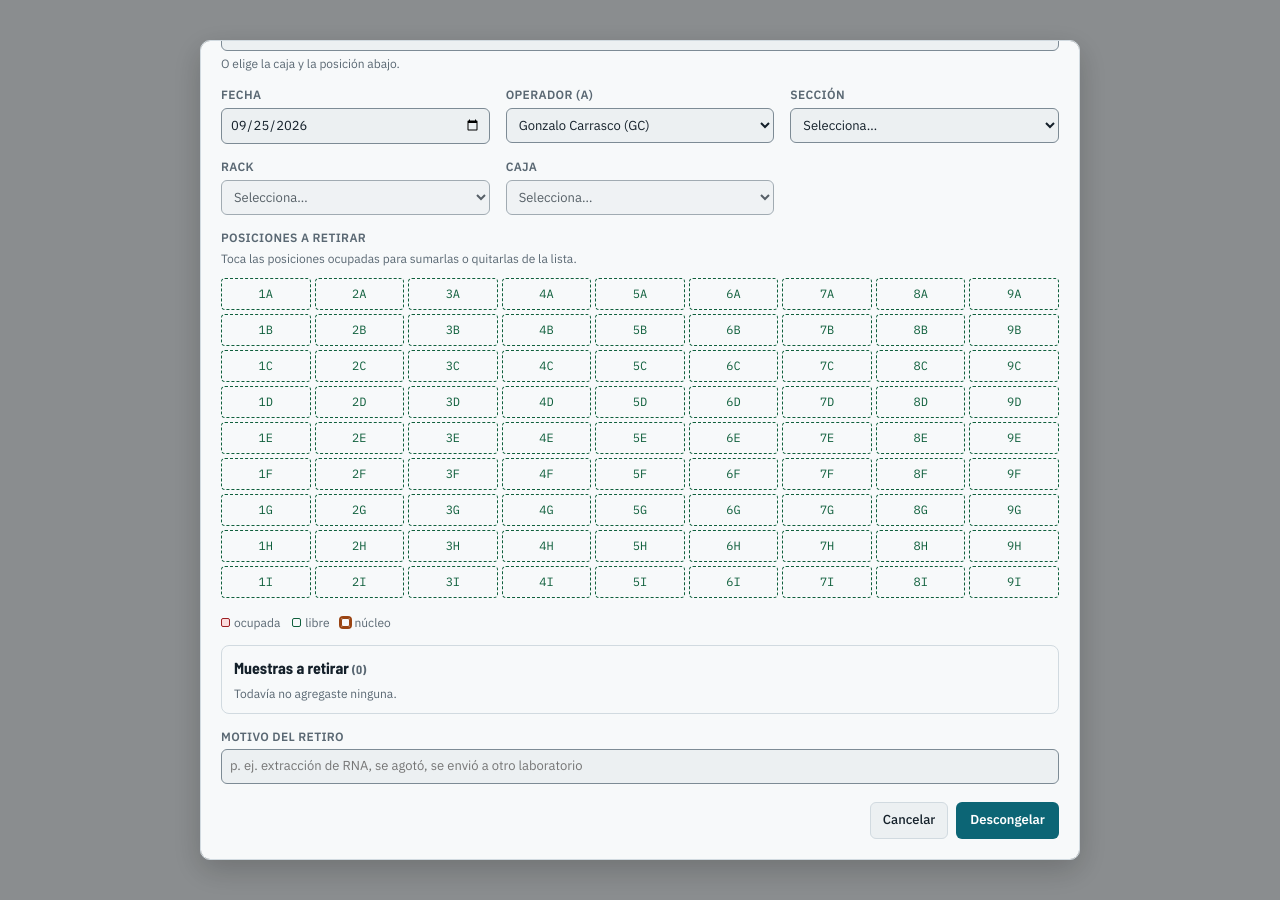
Test: ThawForm › sin muestras en la lista no envía nada
(page scrolled)
Click the button "Descongelar".
click(1008, 820)  # box [956, 802, 1059, 839]
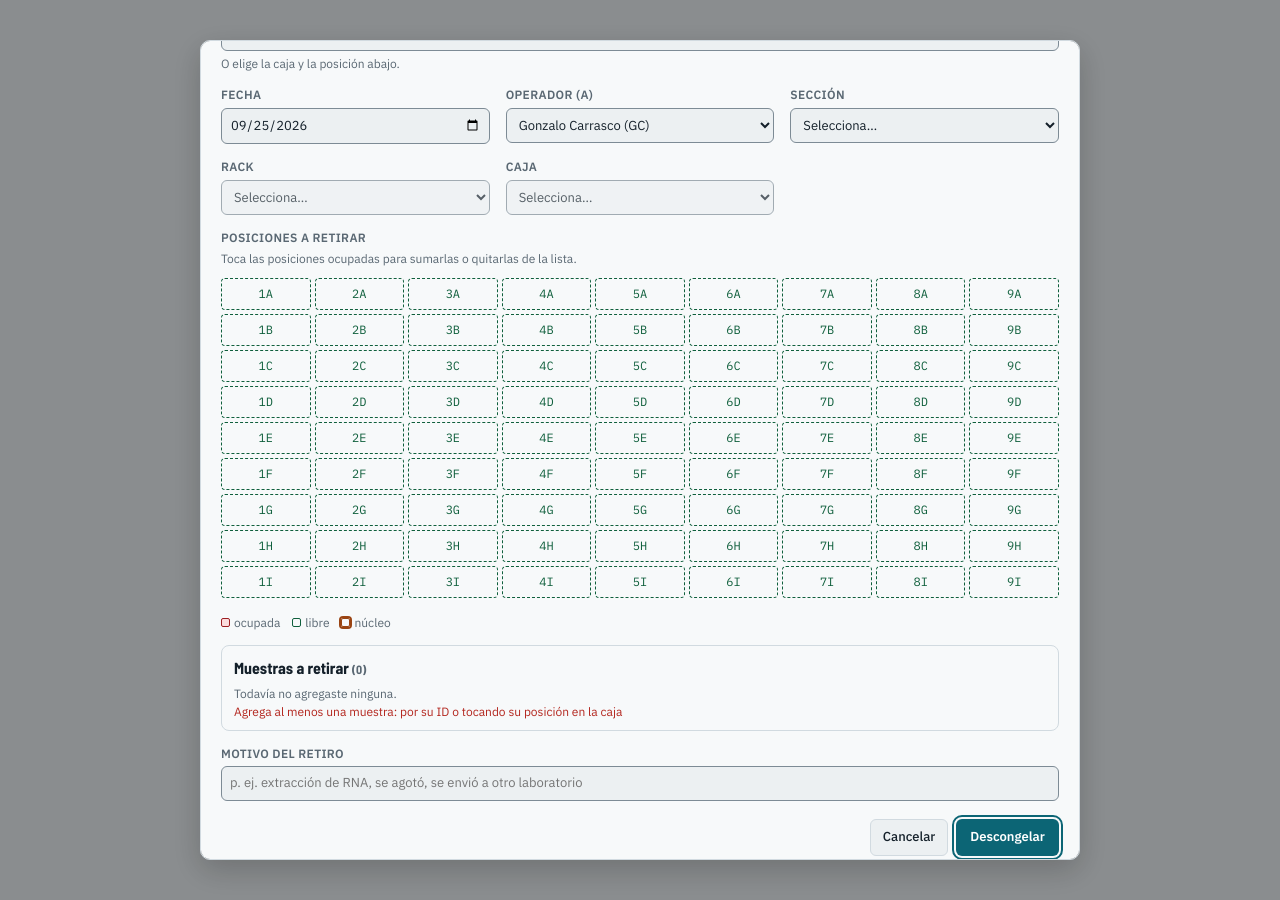
Check: the text "Agrega al menos una muestra" is shown, box [234, 704, 622, 718]
